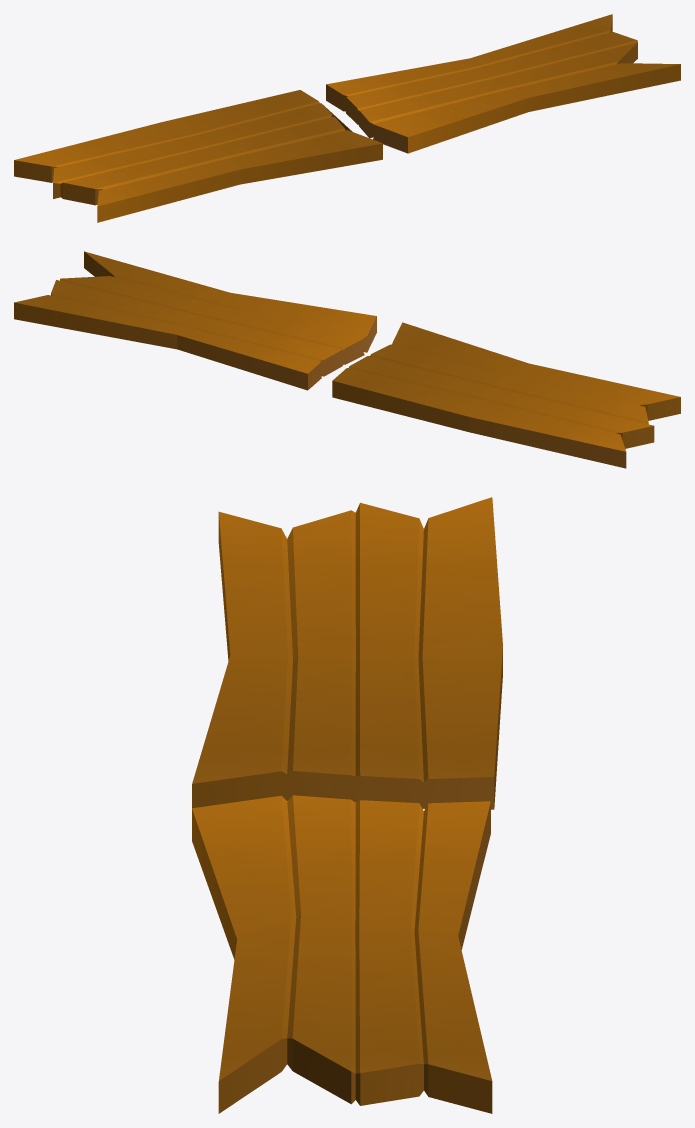
File: Broken_Wood_2.fbx
The picture shows the model from 3 angles, top to bottom: view 1: azimuth 30°, elevation 25°; view 2: azimuth 150°, elevation 25°; view 3: azimuth 270°, elevation 25°; orthographic projection. The views are drawn at different scales.
Visible parts, largest first — view 1: Broken Wood 2; view 2: Broken Wood 2; view 3: Broken Wood 2.
Boxes of the visible parts, box(x1,y1,x2,y2) form: Broken Wood 2: box(14, 14, 680, 222); Broken Wood 2: box(14, 251, 680, 468); Broken Wood 2: box(192, 497, 502, 1113).
Bounding box in the file's own units: 51.21 × 1.34 × 11.52.
